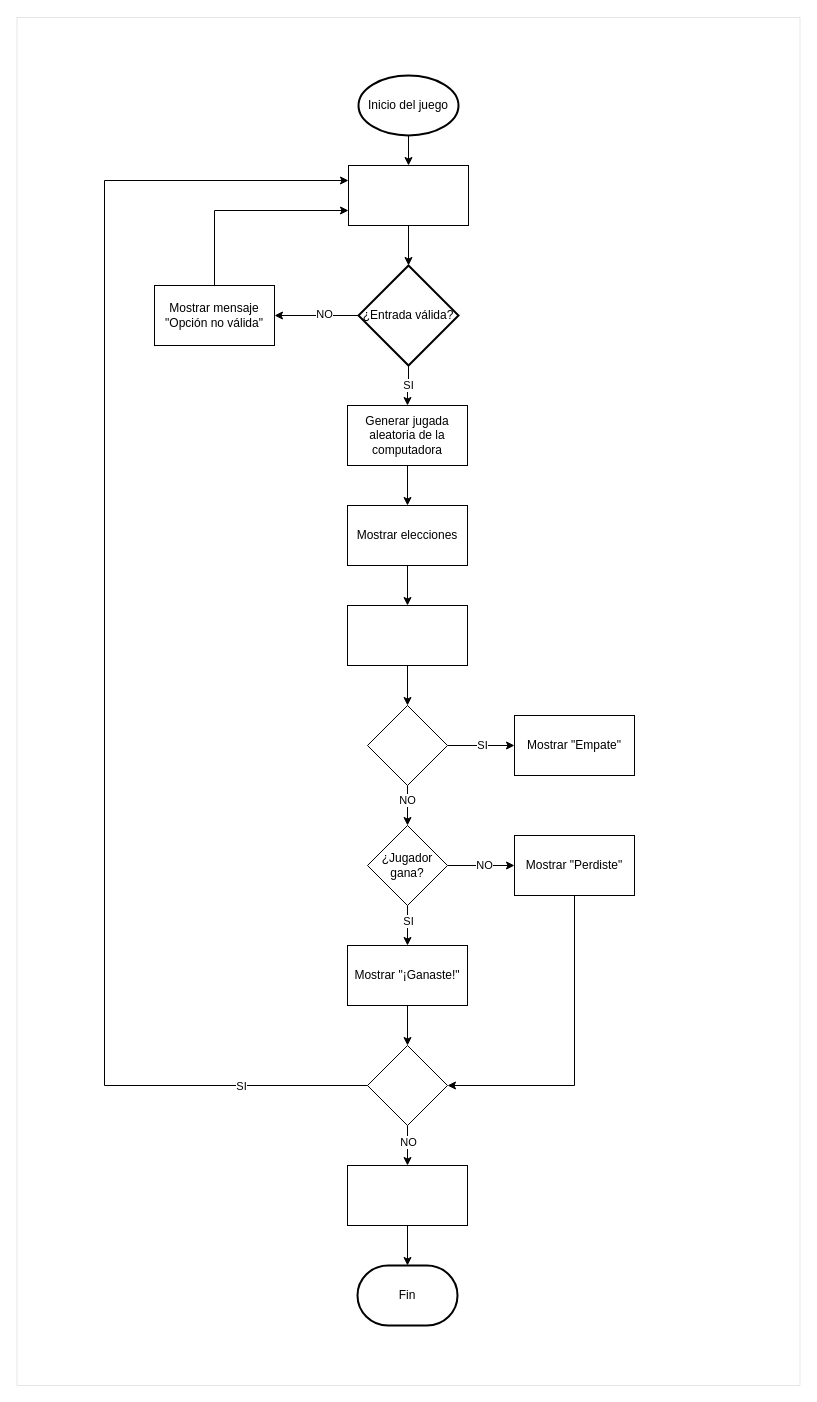
The diagram is 817 pixels wide and 1402 high, and some of its shapes have lost their labels. The centre of each missing label's shape, as x and y in pixels:
"¿Jugar otra vez?": point (407, 1085)
Comparar jugadas: point (407, 635)
Mostrar "Gracias por jugar": point (407, 1195)
Mostrar menú y pedir opción al usuario: point (408, 195)
¿Empate?: point (407, 745)
